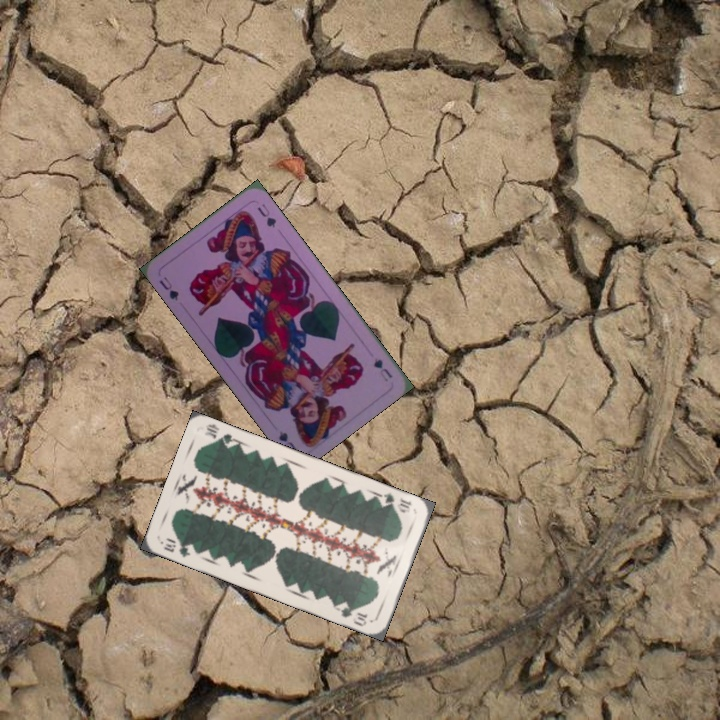G10: (377, 489, 414, 515), (159, 534, 193, 560)
GU: (155, 272, 182, 304), (370, 354, 395, 384)
